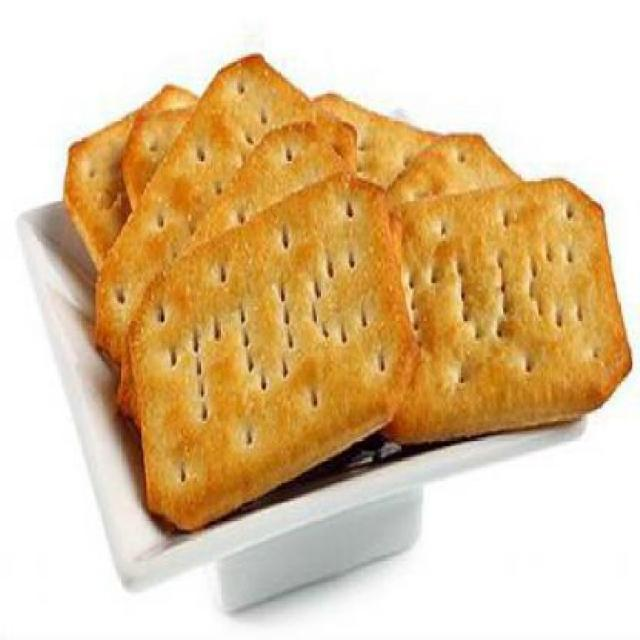Cracker packaged: (123, 183, 414, 514), (353, 176, 636, 447)
